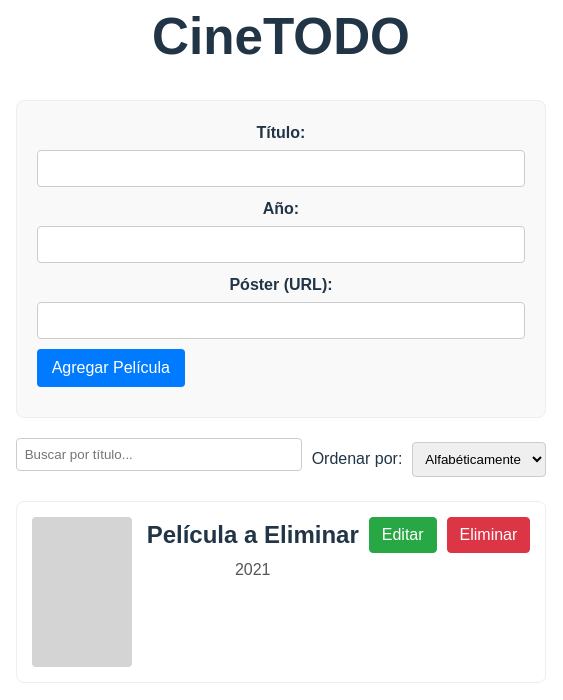
it: App Component › elimina una película correctamente
Expected: the heading "Película a Eliminar" is shown, x1=147 y1=517 x2=359 y2=553
Note: Eliminar la película
Click the button "Eliminar". click: (488, 535)
box: x1=446 y1=517 x2=530 y2=553
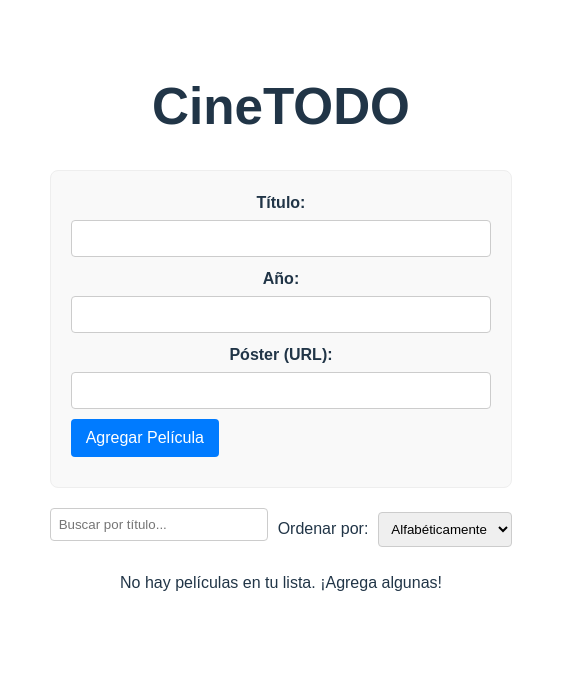
Now the heading "Película a Eliminar" is gone
Now the text "No hay películas en tu lista. ¡Agrega algunas!" is shown, box x1=120 y1=574 x2=442 y2=591
